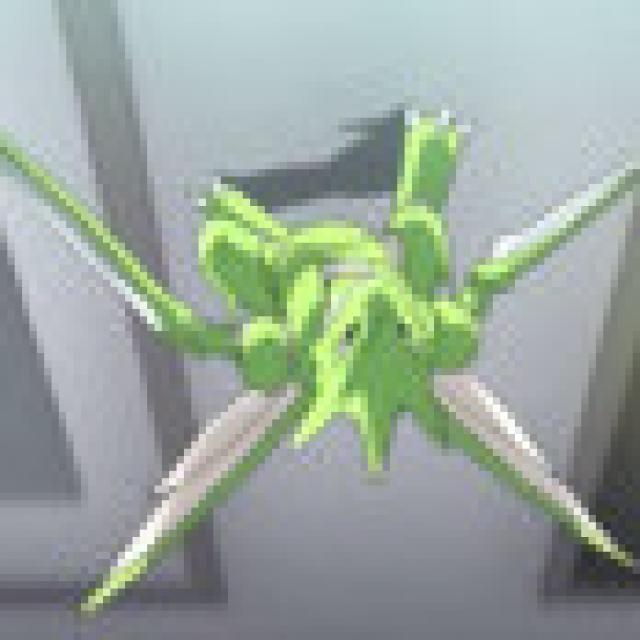Scyther: (0, 86, 640, 620)
